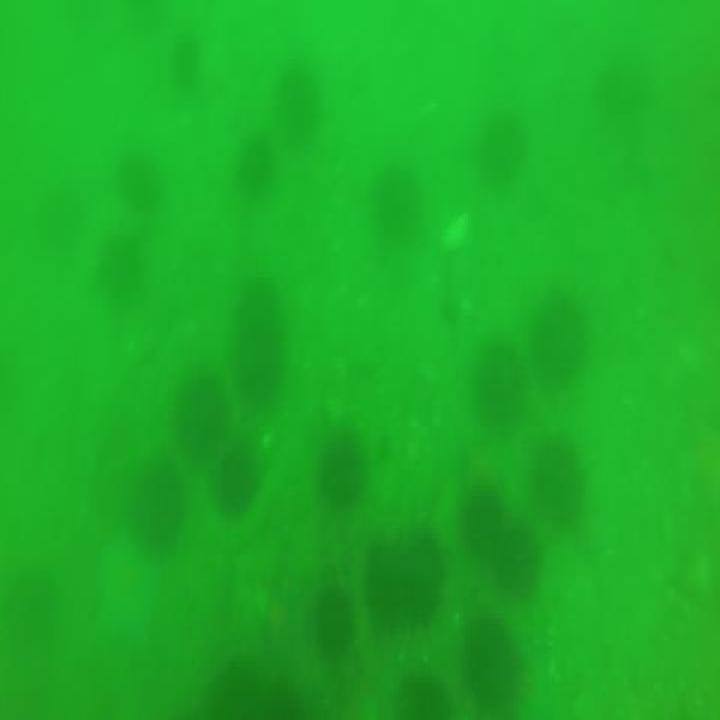echinus: (231, 274, 286, 414), (362, 532, 444, 618), (174, 366, 227, 471), (530, 444, 589, 534), (464, 615, 525, 699), (532, 292, 587, 378), (112, 140, 169, 222), (135, 462, 188, 548), (384, 170, 431, 253), (312, 443, 368, 512), (273, 61, 321, 140), (215, 437, 259, 519), (478, 342, 523, 420), (101, 229, 146, 304), (474, 119, 524, 183), (310, 574, 351, 649), (465, 482, 502, 556), (496, 537, 546, 588), (167, 36, 202, 87), (240, 144, 274, 196)
starfish: (92, 539, 177, 640)
